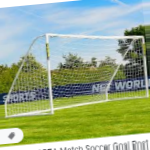goals: (4, 31, 150, 117)
